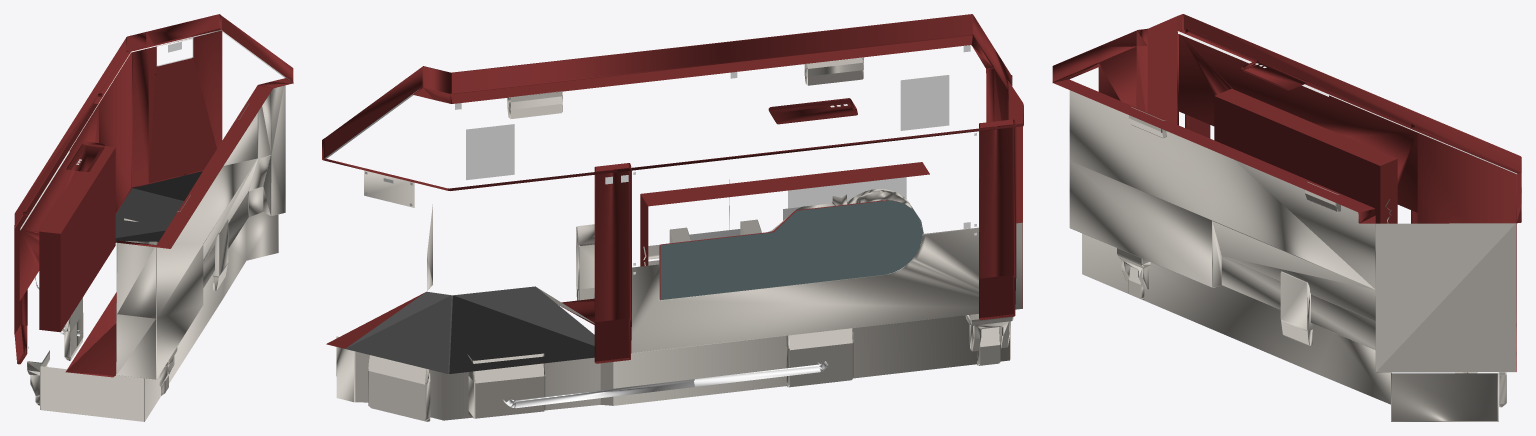
File: casaba_counter_corner_45_b.glb
3 views of the same model, side by side, from view 1: azimuth 30°, elevation 25°; view 2: azimuth 150°, elevation 25°; view 3: azimuth 270°, elevation 25° (orthographic). The views are drawn at different scales.
Visible parts, largest first — view 1: object 1; view 2: object 1, object 16, POM_lowtech_174, POM_lowtech_165; view 3: object 1.
Boxes of the visible parts, x1,y1,x2,y2 form: object 1: (14, 14, 293, 421); object 1: (322, 14, 1023, 421); object 16: (503, 200, 923, 408); POM_lowtech_174: (900, 75, 949, 130); POM_lowtech_165: (466, 124, 514, 180); object 1: (1052, 14, 1521, 421).
Bounding box in the file's own units: 2.16 × 1.13 × 2.22.
